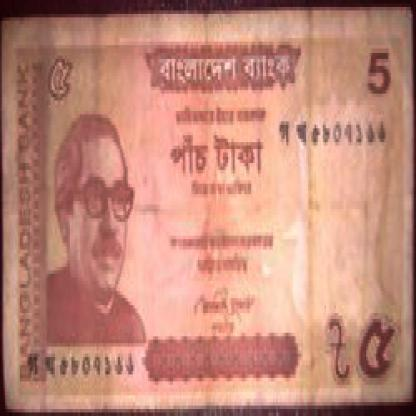Five Taka: (165, 128, 276, 184), (358, 308, 396, 392), (45, 45, 73, 114), (363, 42, 389, 114)
